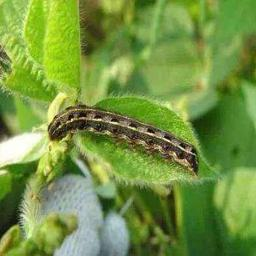Tobacco_budworm: (46, 104, 198, 176)
